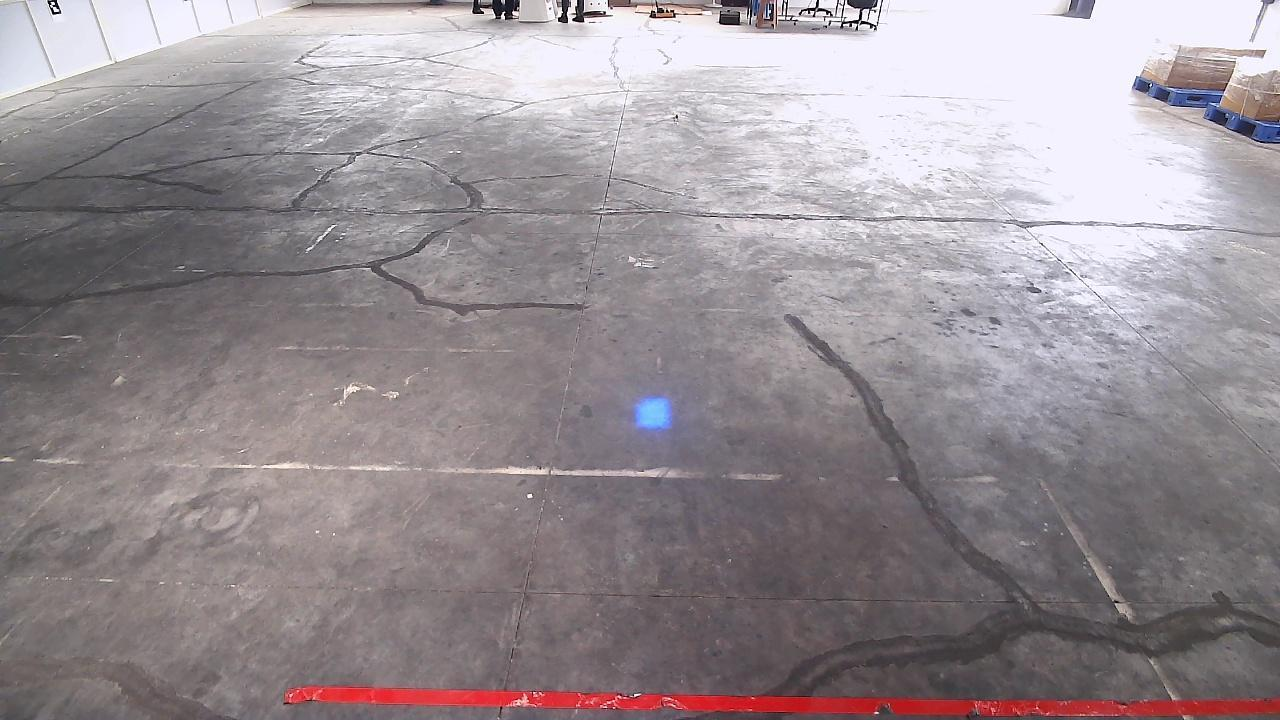red_line: (302, 675, 1278, 720)
